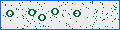o: (5, 10, 14, 17), (73, 10, 81, 17), (51, 8, 59, 15), (38, 14, 46, 21), (28, 9, 36, 16)
